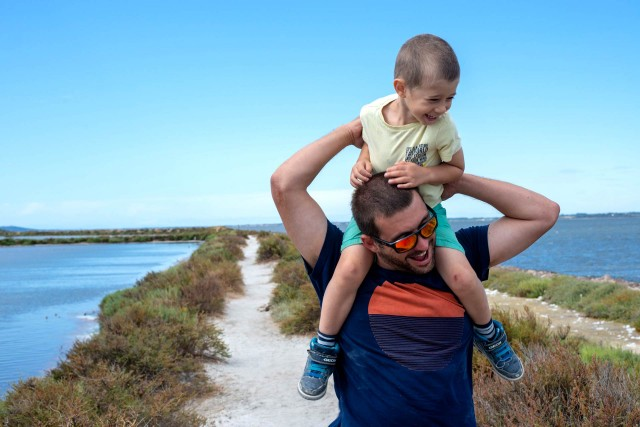without_mask: (371, 207, 438, 270), (409, 84, 461, 128)
